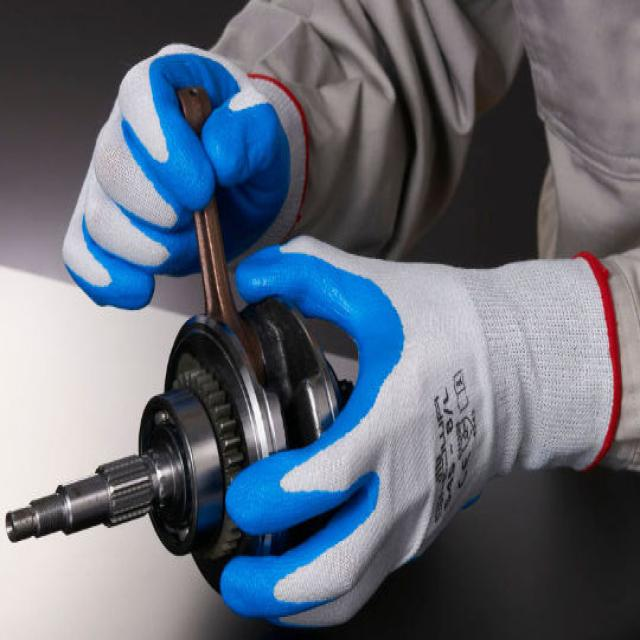gloves: (215, 230, 626, 628), (58, 36, 314, 320)
